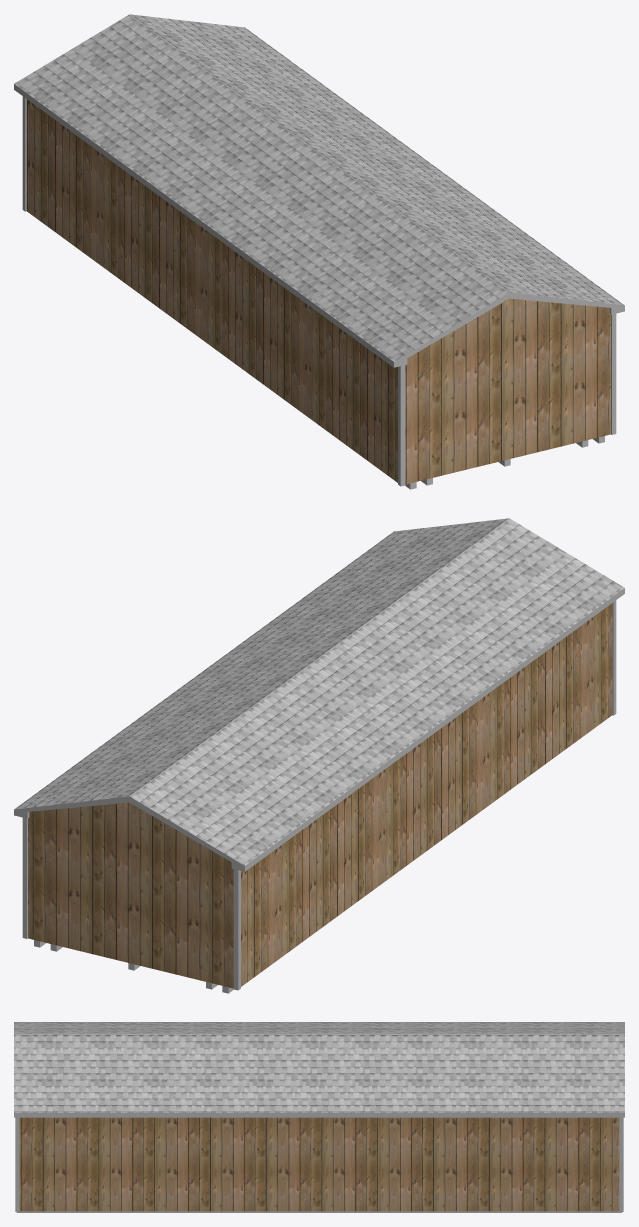
Rendered from A-frame_12x36.obj.
3 renders of one model, top to bottom at view 1: azimuth 30°, elevation 25°; view 2: azimuth 150°, elevation 25°; view 3: azimuth 270°, elevation 25°, orthographic. The views are drawn at different scales.
Parts seen in each view (by area): view 1: Roof, Shed, Sides, Trim; view 2: Roof, Shed, Sides, Trim; view 3: Shed, Roof, Sides, Floor, Trim.
Part boxes in pixels (<box>): Roof: <box>14,14,624,361</box>; Shed: <box>26,99,610,484</box>; Sides: <box>14,84,624,367</box>; Trim: <box>22,96,616,486</box>; Roof: <box>14,518,624,865</box>; Shed: <box>28,603,612,988</box>; Sides: <box>14,588,624,871</box>; Trim: <box>22,600,616,990</box>; Shed: <box>19,1117,619,1211</box>; Roof: <box>14,1022,624,1112</box>; Sides: <box>14,1112,624,1117</box>; Floor: <box>16,1211,622,1212</box>; Trim: <box>15,1117,623,1211</box>.
Size of the model in its own units: 3.89 by 2.81 by 11.07.
